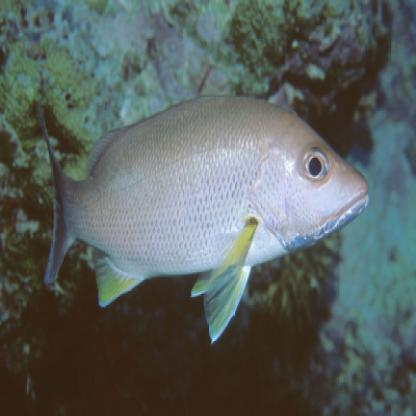Bio: (27, 83, 374, 349)
